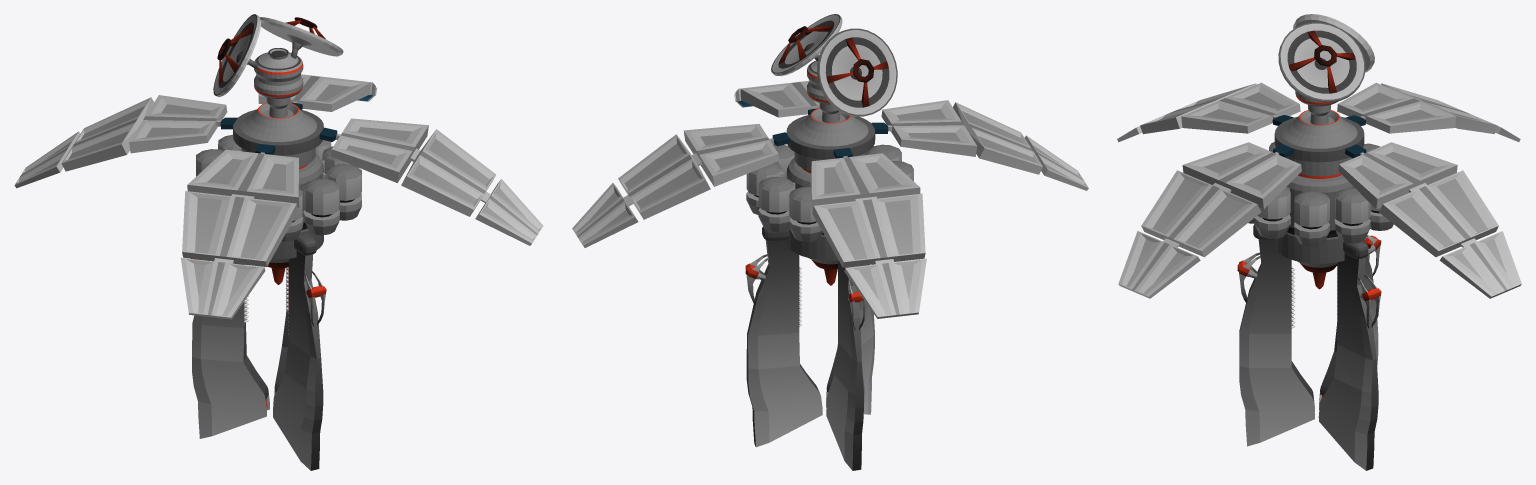
Rendered from orbital_cannon.glb.
The picture shows the model from 3 angles, left to right: view 1: azimuth 30°, elevation 25°; view 2: azimuth 150°, elevation 25°; view 3: azimuth 270°, elevation 25°; orthographic projection. The views are drawn at different scales.
Visible parts, largest first — view 1: Cans; view 2: Cans; view 3: Cans.
Part boxes in pixels (box(x1,y1,x2,y2)): Cans: box(14, 14, 543, 470); Cans: box(572, 14, 1088, 470); Cans: box(1117, 14, 1521, 470).
Size of the model in its own units: 9.01 by 10.35 by 9.04.
51 materials, 51 textured.
